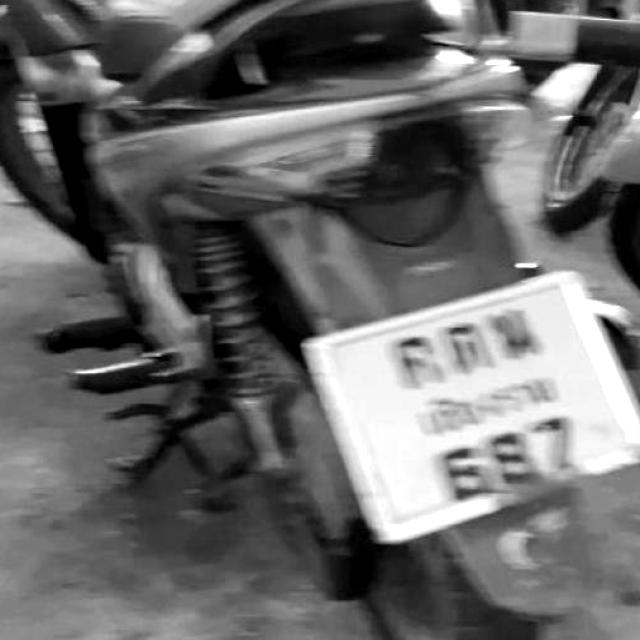letters: (493, 425, 536, 486), (439, 450, 491, 497), (543, 411, 584, 467), (398, 333, 443, 384), (448, 325, 493, 371), (494, 312, 532, 358)
license-plate: (313, 273, 640, 544)
province: (407, 384, 584, 416)
